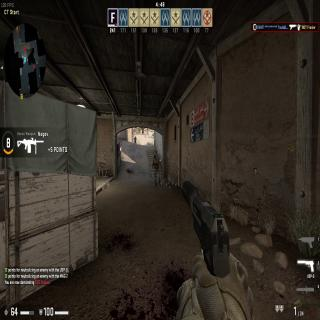CT-Body: (152, 154, 160, 187)
CT-Head: (154, 155, 156, 161)
